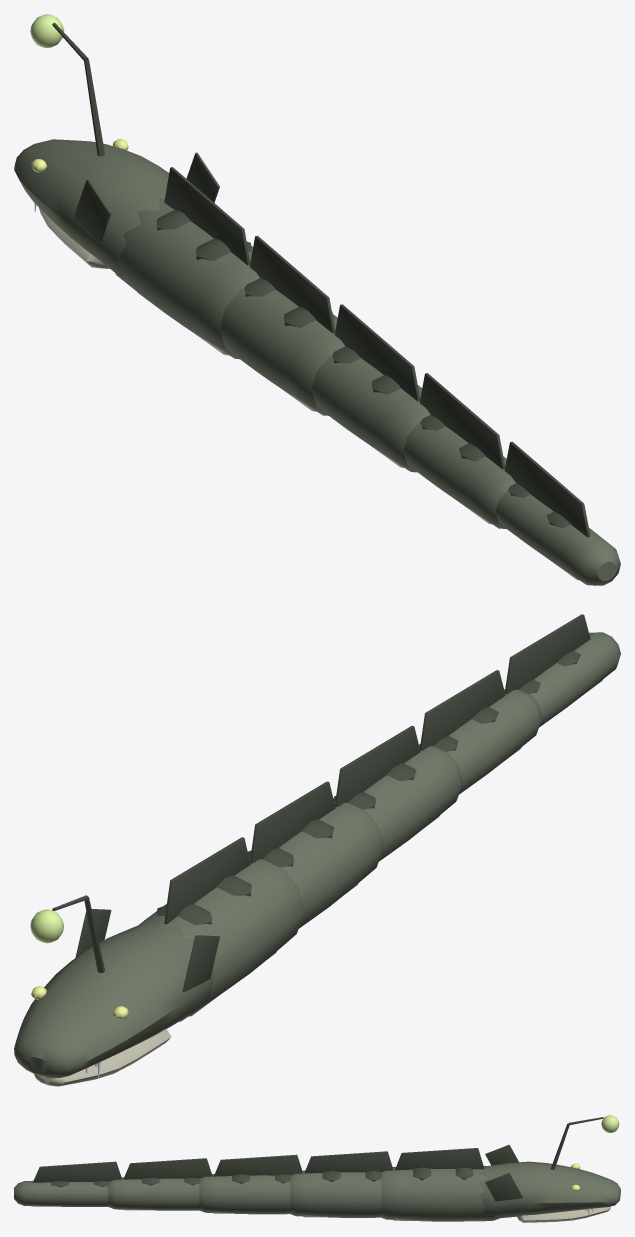
File: sea_fogmaw.gltf
3 renders of one model, top to bottom at view 1: azimuth 30°, elevation 25°; view 2: azimuth 150°, elevation 25°; view 3: azimuth 270°, elevation 25°, orthographic. The views are drawn at different scales.
Parts seen in each view (by area): view 1: Seg1, Head, Seg2, Seg3, Seg4, Seg5, Lure; view 2: Head, Seg1, Seg2, Seg3, Seg4, Seg5, Jaw, Lure; view 3: Seg1, Head, Seg2, Seg3, Seg4, Seg5, Jaw, Lure.
Part boxes in pixels (bbox=[...]): Seg1: bbox=[115, 167, 259, 359]; Head: bbox=[14, 139, 219, 278]; Seg2: bbox=[219, 235, 344, 415]; Seg3: bbox=[311, 304, 430, 472]; Seg4: bbox=[403, 373, 516, 528]; Seg5: bbox=[495, 441, 620, 585]; Lure: bbox=[30, 14, 104, 156]; Head: bbox=[14, 909, 219, 1078]; Seg1: bbox=[138, 837, 303, 1021]; Seg2: bbox=[248, 781, 383, 928]; Seg3: bbox=[333, 726, 462, 861]; Seg4: bbox=[419, 670, 541, 794]; Seg5: bbox=[505, 614, 620, 727]; Jaw: bbox=[34, 1029, 171, 1086]; Lure: bbox=[30, 895, 104, 972]; Seg1: bbox=[381, 1148, 499, 1221]; Head: bbox=[479, 1144, 620, 1219]; Seg2: bbox=[290, 1151, 393, 1217]; Seg3: bbox=[199, 1154, 302, 1214]; Seg4: bbox=[108, 1158, 212, 1210]; Seg5: bbox=[14, 1161, 121, 1206]; Jaw: bbox=[517, 1206, 610, 1222]; Lure: bbox=[550, 1115, 619, 1169].
Bounding box in the file's own units: 1.01 × 1.63 × 8.72.
